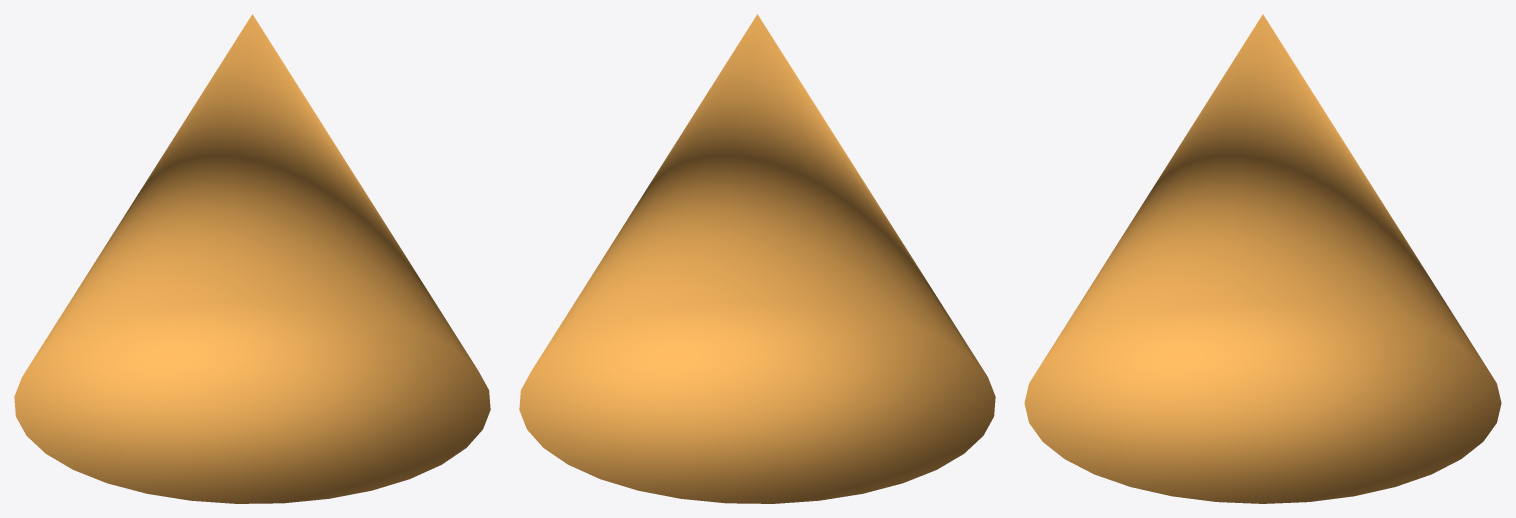
The model's file is orange_cone.glb.
3 views of the same model, side by side, from view 1: azimuth 30°, elevation 25°; view 2: azimuth 150°, elevation 25°; view 3: azimuth 270°, elevation 25° (orthographic).
Visible parts, largest first — view 1: orange_cone; view 2: orange_cone; view 3: orange_cone.
Boxes of the visible parts, x1=… form: orange_cone: x1=14, y1=14, x2=490, y2=503; orange_cone: x1=519, y1=14, x2=995, y2=503; orange_cone: x1=1024, y1=14, x2=1501, y2=503.
Bounding box in the file's own units: 2 × 1.8 × 2.
